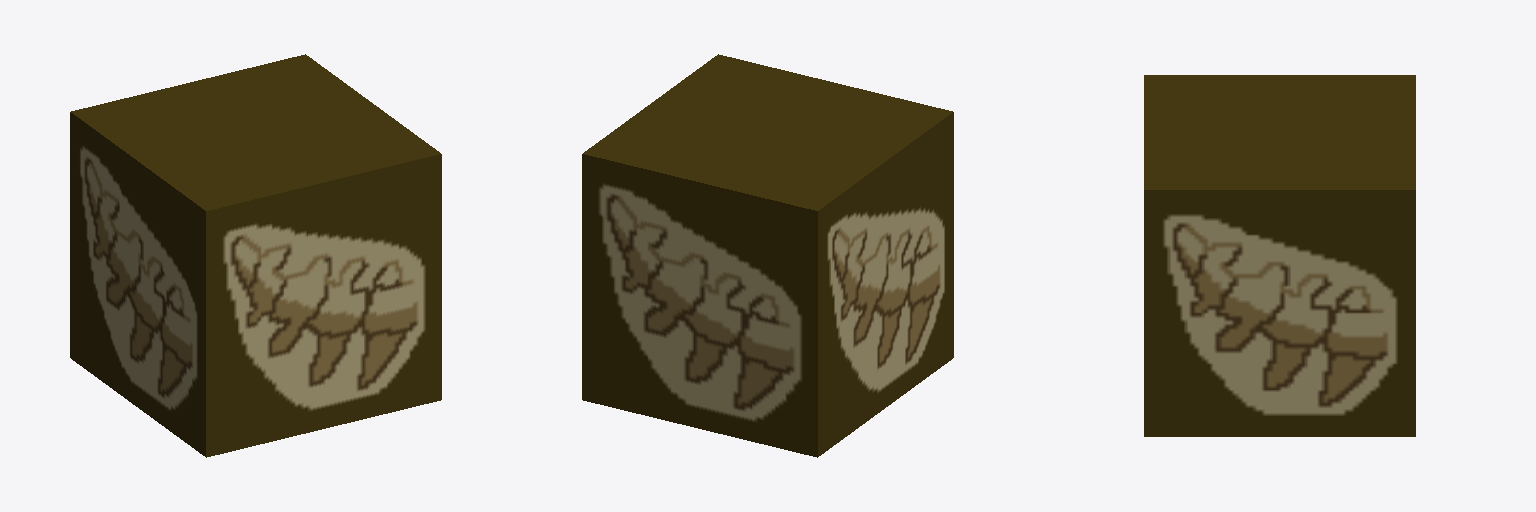
The picture shows the model from 3 angles: view 1: azimuth 30°, elevation 25°; view 2: azimuth 150°, elevation 25°; view 3: azimuth 270°, elevation 25°; orthographic projection.
Parts seen in each view (by area): view 1: Cube; view 2: Cube; view 3: Cube.
Boxes of the visible parts, x1=… form: Cube: x1=70, y1=54, x2=441, y2=457; Cube: x1=582, y1=54, x2=953, y2=457; Cube: x1=1144, y1=75, x2=1415, y2=436.
Bounding box in the file's own units: 2 × 2 × 2.
Materials: 1 (1 with a texture image).